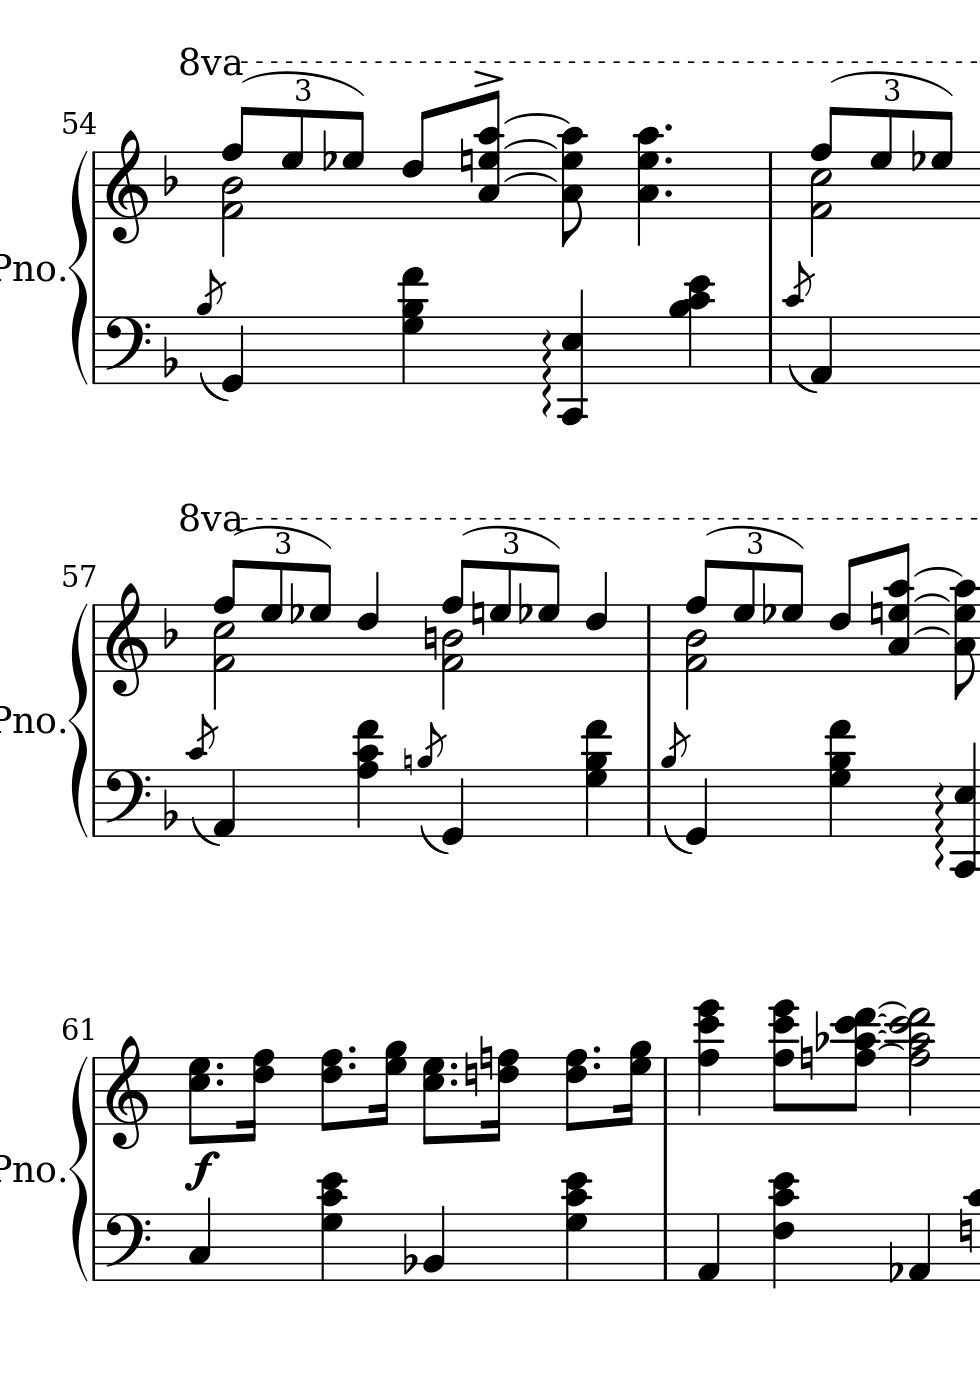1: (80, 1016, 94, 1043)
16_6_8: (237, 1050, 278, 1143), (479, 1049, 520, 1142)
16_7_9: (369, 1041, 407, 1126), (615, 1040, 653, 1125)
2_1_4: (218, 150, 244, 260), (684, 601, 707, 708), (441, 603, 463, 710)
2_1_5: (210, 604, 238, 708), (810, 150, 835, 256)
3: (745, 532, 764, 557), (293, 78, 311, 103), (883, 78, 900, 104), (274, 531, 291, 557), (502, 532, 519, 557)
4: (78, 110, 97, 137)
4_-4_5: (557, 291, 589, 428), (950, 741, 980, 879)
4_0: (441, 768, 465, 848), (222, 315, 245, 394), (685, 768, 708, 846)
4_1: (695, 1213, 721, 1283), (907, 1212, 932, 1283), (809, 316, 834, 387), (212, 769, 237, 838)
4_2: (422, 1204, 447, 1283)
4_3: (186, 1196, 212, 1283)
4_4th: (890, 1004, 937, 1128)
4_6: (355, 569, 381, 676), (584, 571, 609, 676)
4_th: (692, 996, 724, 1124), (350, 713, 383, 836), (396, 261, 427, 385), (823, 714, 855, 838), (580, 715, 611, 838), (767, 1170, 797, 1289), (560, 1165, 590, 1283), (315, 1164, 344, 1284)
5: (62, 561, 78, 590), (62, 109, 78, 136)
6: (62, 1015, 78, 1043)
7: (80, 562, 97, 590)
8_4th: (834, 1005, 880, 1126)
8_5_7: (187, 1056, 215, 1144), (422, 1056, 447, 1147)
8_6: (827, 555, 861, 676), (400, 107, 435, 222)
8_6_8: (319, 1048, 344, 1133), (564, 1049, 589, 1134)
8_7: (868, 108, 894, 221), (536, 562, 562, 674), (308, 562, 333, 673), (780, 562, 805, 673), (280, 108, 304, 220), (929, 109, 953, 220), (731, 562, 755, 672), (489, 562, 512, 676), (342, 109, 365, 220), (259, 563, 282, 673)
8_th: (766, 997, 798, 1128), (951, 579, 980, 699)
Accent_above: (471, 67, 505, 88)
Acciaccature: (192, 269, 227, 385), (659, 718, 690, 839), (186, 714, 216, 836), (416, 722, 447, 838), (784, 261, 812, 385)
Arpeggio: (537, 326, 556, 416), (933, 778, 947, 872)
Brace: (69, 147, 91, 380), (69, 602, 88, 831), (69, 1055, 88, 1282)
Fclef: (102, 1211, 153, 1283), (102, 315, 152, 387), (102, 767, 152, 839)
Flat: (159, 152, 179, 198), (159, 606, 179, 651), (160, 333, 178, 380), (161, 787, 178, 834), (908, 127, 925, 173), (813, 1008, 829, 1056), (400, 1231, 417, 1276), (320, 127, 336, 173), (759, 580, 775, 626), (886, 1240, 902, 1285), (287, 580, 303, 625), (517, 580, 531, 625)
Gclef: (104, 128, 148, 245), (104, 1033, 148, 1150), (104, 581, 148, 697)
Natural: (469, 587, 486, 638), (867, 589, 883, 639), (457, 136, 474, 186), (956, 1207, 973, 1257), (421, 615, 438, 664), (478, 1033, 494, 1084), (798, 1032, 813, 1082), (462, 1050, 478, 1099), (402, 745, 413, 777)
Pno: (1, 250, 55, 285), (1, 702, 55, 737), (1, 1152, 55, 1187)
Single_barline: (657, 1213, 673, 1281), (762, 153, 778, 218), (762, 317, 778, 383), (640, 606, 657, 671), (657, 1058, 673, 1124), (640, 770, 657, 835), (87, 152, 102, 220), (87, 606, 102, 672), (88, 769, 102, 836), (88, 1058, 101, 1125), (89, 1213, 102, 1280), (89, 317, 102, 383)
Slur: (834, 69, 953, 98), (241, 69, 363, 97), (708, 523, 807, 554), (461, 523, 562, 550), (234, 523, 330, 549), (189, 815, 224, 852), (197, 369, 231, 406), (415, 824, 452, 855), (501, 111, 574, 126), (786, 362, 817, 396), (661, 824, 692, 855), (501, 137, 558, 151), (500, 170, 556, 183), (912, 625, 950, 637), (912, 592, 949, 604), (917, 567, 961, 578), (875, 1001, 909, 1013), (876, 1043, 905, 1053)
dot: (662, 154, 675, 168), (590, 1043, 603, 1056), (590, 1059, 603, 1072), (345, 1060, 358, 1073), (661, 121, 673, 134), (345, 1043, 357, 1056), (213, 1059, 226, 1072), (213, 1076, 226, 1089), (662, 187, 673, 200), (447, 1077, 460, 1089), (447, 1060, 459, 1071)
f: (183, 1150, 222, 1192)
